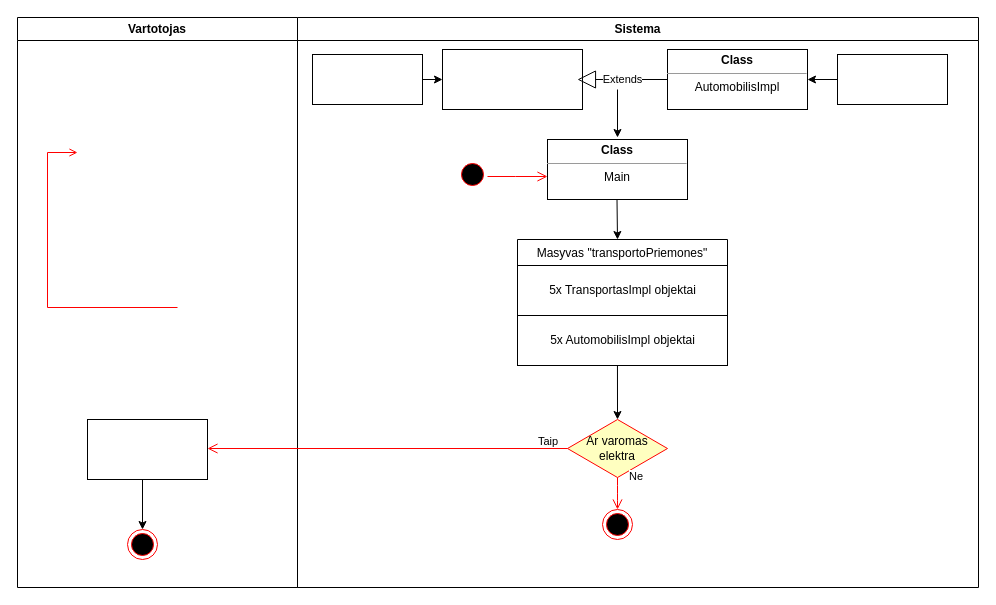
This 996x605 diagram has some shape labels left out. The shapes that lost their labels are listed below. From the top down, each one's centre as x and y in pixels, then its label:
point 367,79: «interface» Transportas
point 512,79: Class TransportasImpl
point 892,79: «interface» Automobilis
point 147,449: Atspausdinama objektų, kurie varomi elektra, informacija
